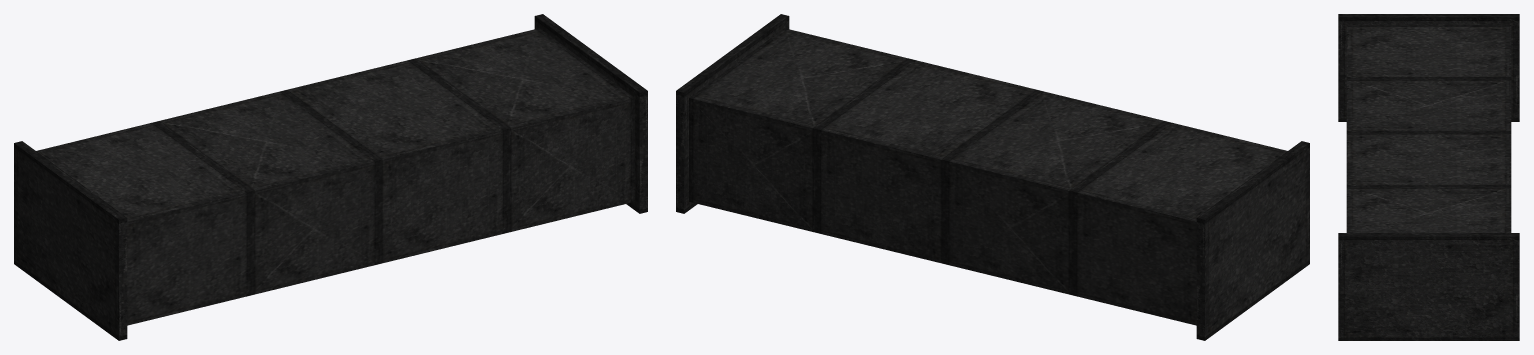
File: p6_duct_rect_sml_64_white_lod0.glb
3 renders of one model, left to right at view 1: azimuth 30°, elevation 25°; view 2: azimuth 150°, elevation 25°; view 3: azimuth 270°, elevation 25°, orthographic. The views are drawn at different scales.
Parts seen in each view (by area): view 1: surf0; view 2: surf0; view 3: surf0.
Part boxes in pixels (x1=…): surf0: x1=14, y1=14, x2=647, y2=340; surf0: x1=676, y1=14, x2=1309, y2=340; surf0: x1=1338, y1=14, x2=1519, y2=340.
Bounding box in the file's own units: 64 × 14 × 22.
